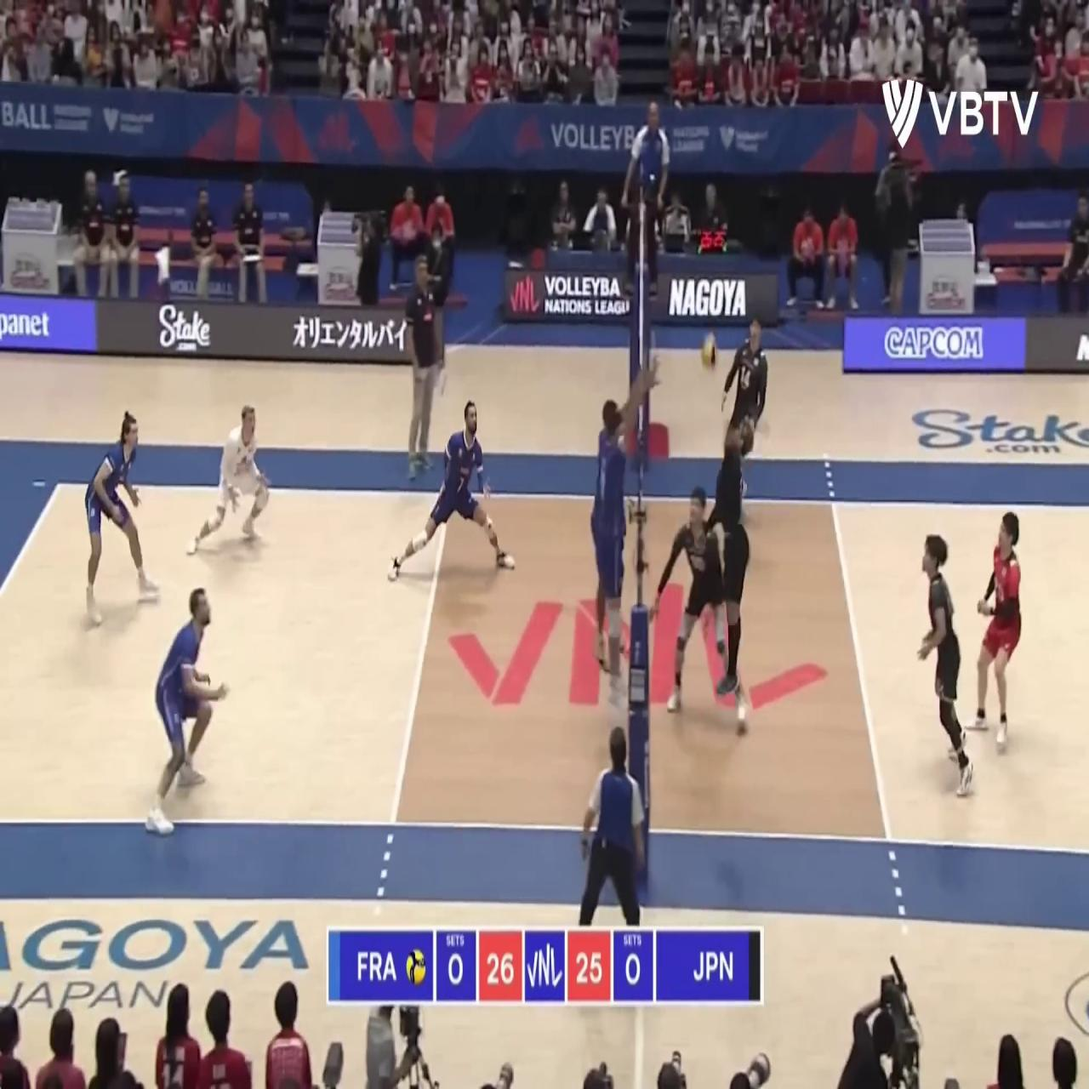ball: (700, 331, 718, 371)
